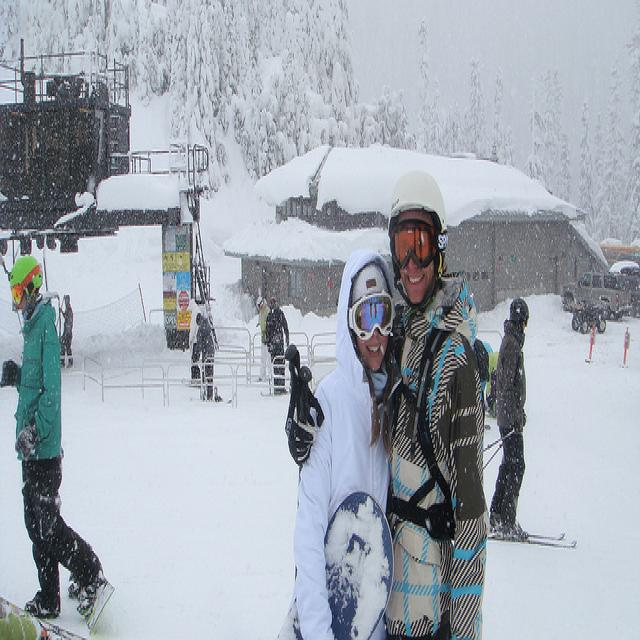Vehicle: (560, 272, 632, 322), (560, 272, 632, 321)
